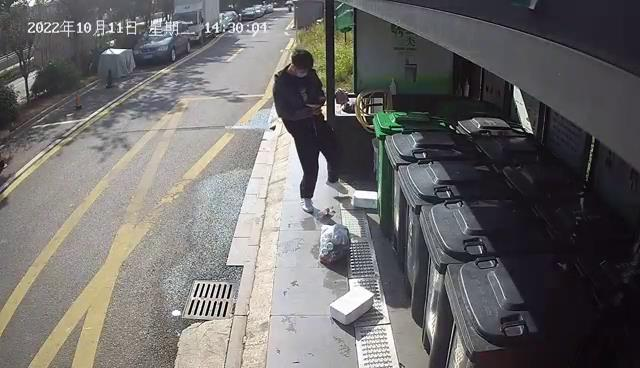person: (272, 47, 351, 212)
suliaozhipin: (317, 222, 351, 267)
zhizhipin: (329, 285, 375, 326)
